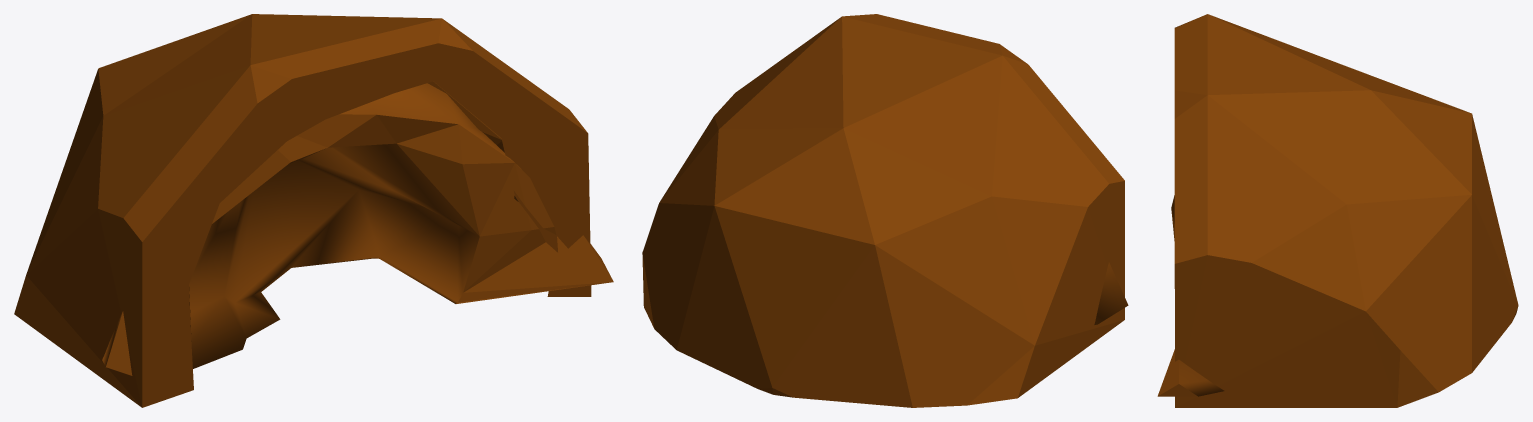
The model's file is lacasita.fbx.
3 renders of one model, left to right at view 1: azimuth 30°, elevation 25°; view 2: azimuth 150°, elevation 25°; view 3: azimuth 270°, elevation 25°, orthographic. The views are drawn at different scales.
Parts seen in each view (by area): view 1: Cubo, Cubo.002; view 2: Cubo, Cubo.002; view 3: Cubo, Cubo.002.
Boxes of the visible parts, x1,y1,x2,y2 form: Cubo: [14, 14, 591, 407]; Cubo.002: [102, 83, 613, 375]; Cubo: [642, 14, 1124, 407]; Cubo.002: [1094, 262, 1128, 324]; Cubo: [1174, 14, 1518, 407]; Cubo.002: [1157, 195, 1224, 396].
Bounding box in the file's own units: 479 × 283 × 358.
